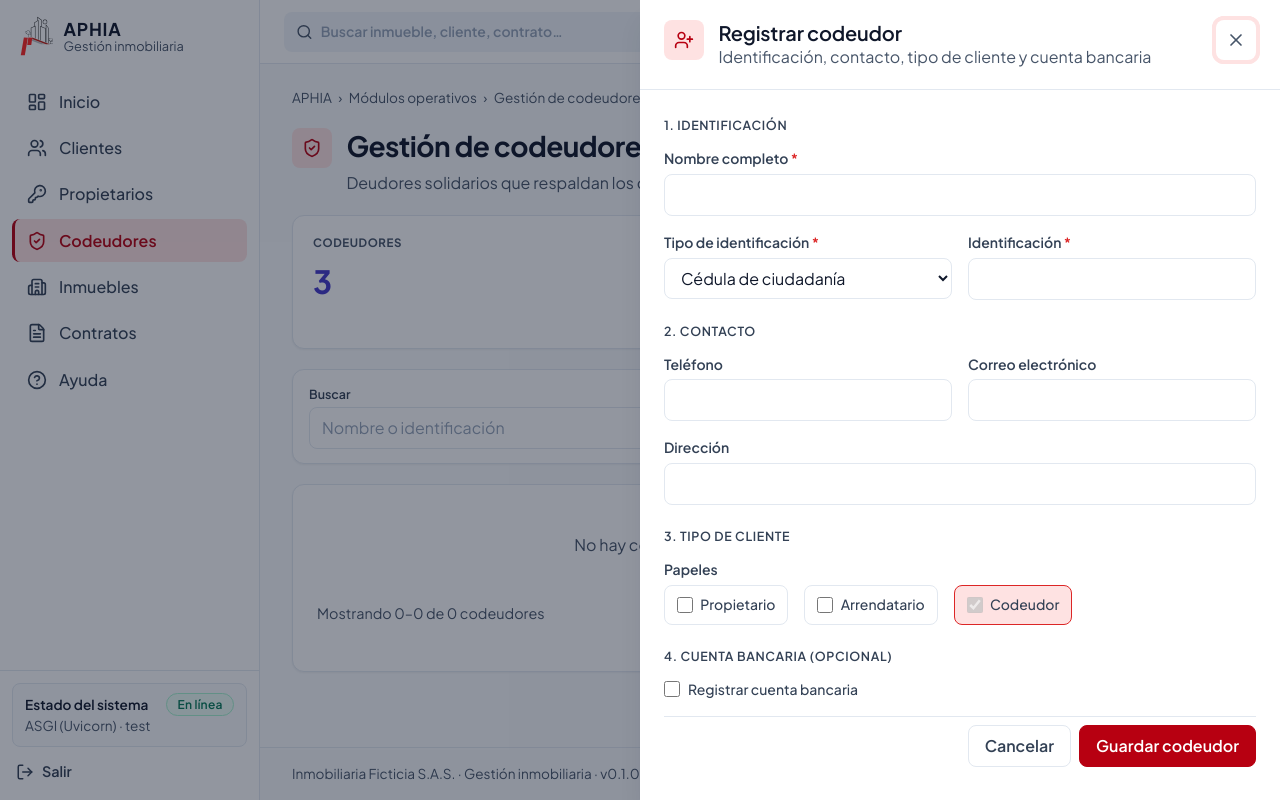
Test case: PersonasListPage › abre el panel de registro y vuelve a la lista con el mensaje
This screenshot has width=1280, height=800.
expect the checkbox labelled "Codeudor" is checked: met, box [967,597,983,613]
Type "Nuevo Codeudor" into the field labelled "Nombre completo *" at (960, 195), box [664,174,1256,216]
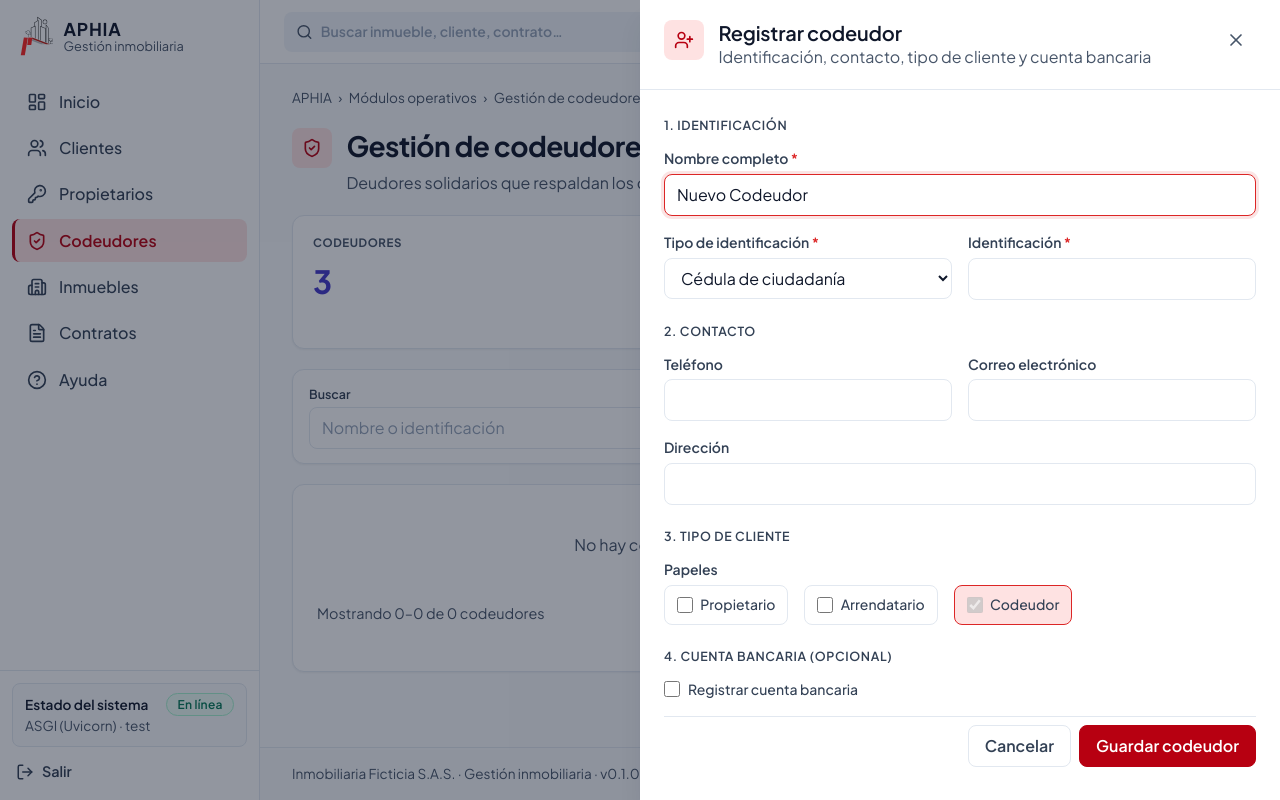
Type "7778889" into the field labelled "Identificación *" at (1112, 279), box [968,258,1256,300]
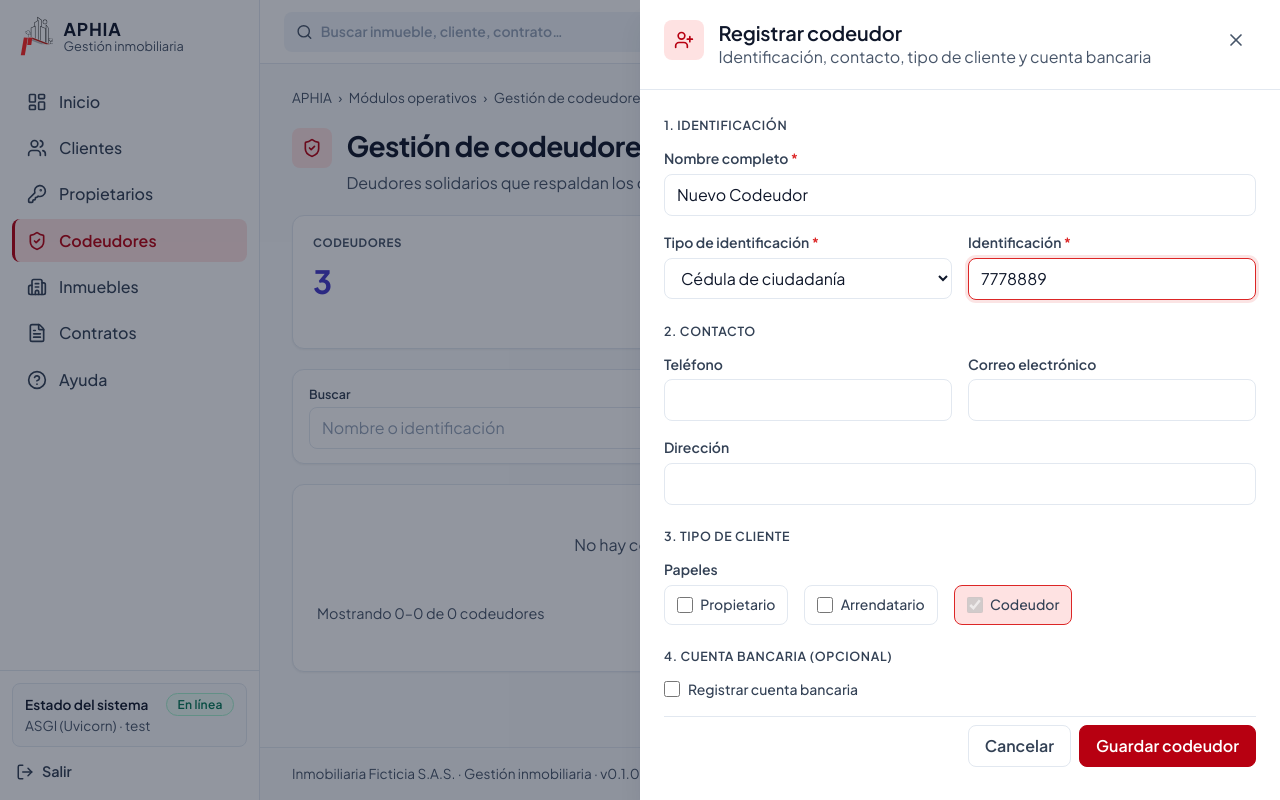
Click the button "Guardar codeudor" at (1168, 746), box [1079,725,1256,767]
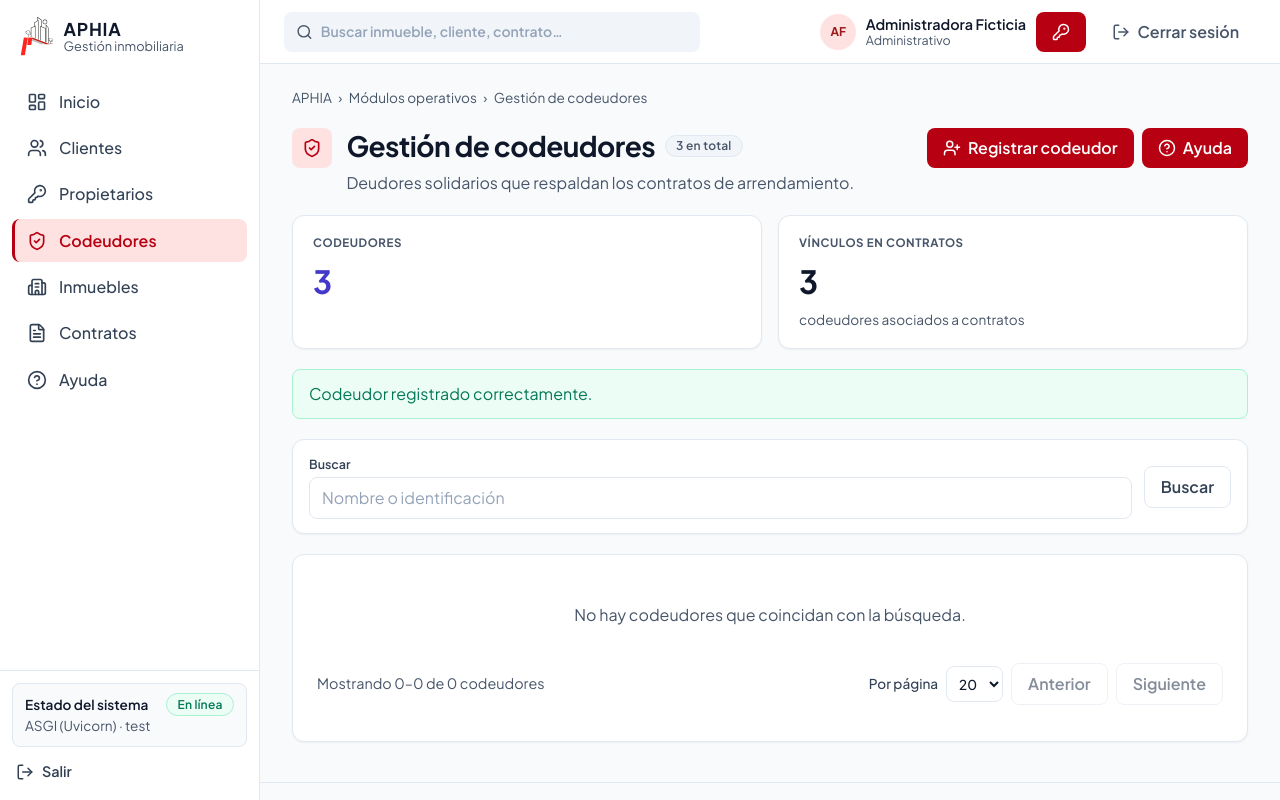
expect the message reads "Codeudor registrado correctamente.": met, box [309,383,592,404]
